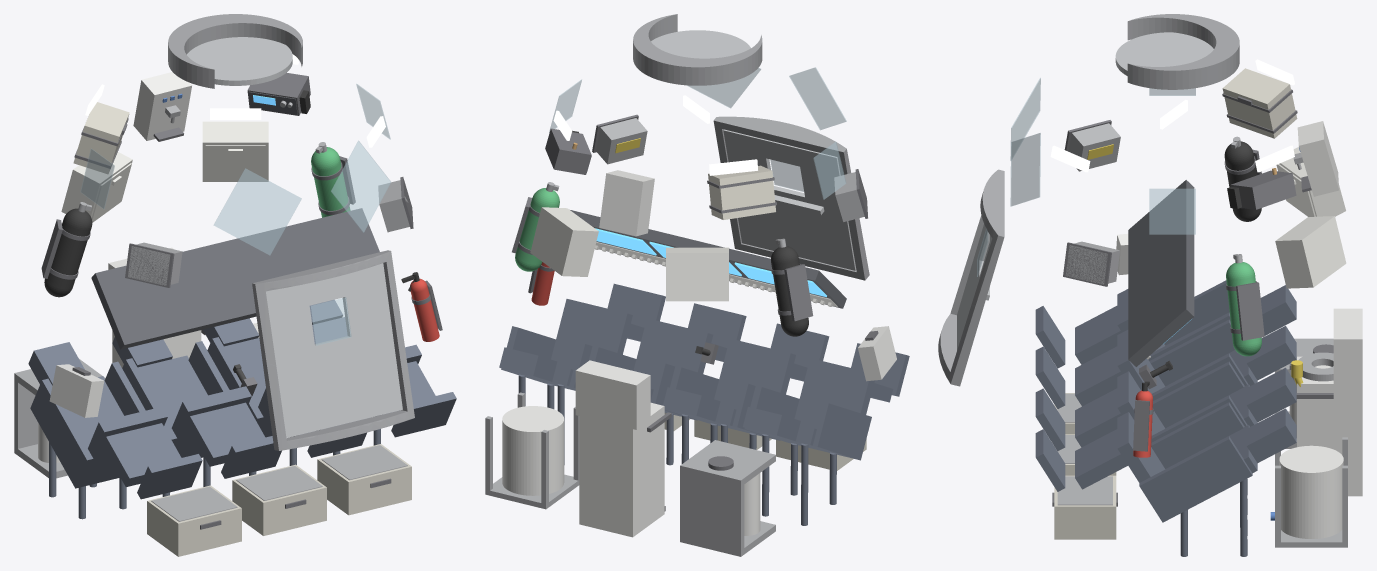
Rendered from cmd05_dragon_capsule_cutaway.glb.
3 views of the same model, side by side, from view 1: azimuth 30°, elevation 25°; view 2: azimuth 150°, elevation 25°; view 3: azimuth 270°, elevation 25° (orthographic). The views are drawn at different scales.
Visible parts, largest first — view 1: main_console, hatch_door_1, seat_1, seat_2, window_glass_inner, hatch_tunnel_1, stowage_lockers, seat_3, hatch_tunnel_2, hatch_door_2, seat_4, eq20_1_bag (+20 smaller); view 2: seat_1, eq22_1_body, hatch_door_1, seat_2, seat_4, eq08_1_frame, stowage_lockers, seat_3, window_glass_inner, eq11_1_tank, hatch_tunnel_1, hatch_tunnel_2 (+20 smaller); view 3: seat_4, main_console, seat_3, seat_2, seat_1, window_glass_inner, eq11_1_tank, stowage_lockers, hatch_tunnel_2, hatch_tunnel_1, eq22_1_body, eq19_1_bag (+19 smaller).
Boxes of the visible parts, x1=… form: main_console: x1=91, y1=208, x2=379, y2=349; hatch_door_1: x1=266, y1=263, x2=402, y2=437; seat_1: x1=28, y1=342, x2=202, y2=519; seat_2: x1=112, y1=337, x2=281, y2=496; window_glass_inner: x1=80, y1=84, x2=390, y2=345; hatch_tunnel_1: x1=252, y1=250, x2=414, y2=450; stowage_lockers: x1=61, y1=121, x2=268, y2=222; seat_3: x1=203, y1=318, x2=366, y2=475; hatch_tunnel_2: x1=168, y1=14, x2=302, y2=88; hatch_door_2: x1=187, y1=37, x2=292, y2=85; seat_4: x1=309, y1=299, x2=456, y2=455; eq20_1_bag: x1=147, y1=485, x2=241, y2=556; seat_1: x1=743, y1=343, x2=909, y2=525; eq22_1_body: x1=579, y1=402, x2=664, y2=537; hatch_door_1: x1=723, y1=129, x2=856, y2=270; seat_2: x1=663, y1=323, x2=829, y2=463; seat_4: x1=499, y1=283, x2=665, y2=464; eq08_1_frame: x1=680, y1=440, x2=775, y2=556; stowage_lockers: x1=530, y1=207, x2=728, y2=301; seat_3: x1=588, y1=303, x2=746, y2=465; window_glass_inner: x1=549, y1=67, x2=846, y2=199; eq11_1_tank: x1=502, y1=406, x2=564, y2=495; hatch_tunnel_1: x1=713, y1=116, x2=869, y2=280; hatch_tunnel_2: x1=633, y1=14, x2=762, y2=85; seat_4: x1=1035, y1=402, x2=1296, y2=556; main_console: x1=1128, y1=180, x2=1194, y2=366; seat_3: x1=1035, y1=361, x2=1296, y2=514; seat_2: x1=1035, y1=319, x2=1296, y2=408; seat_1: x1=1035, y1=280, x2=1296, y2=368; window_glass_inner: x1=977, y1=78, x2=1195, y2=276; eq11_1_tank: x1=1279, y1=445, x2=1343, y2=538; stowage_lockers: x1=1275, y1=147, x2=1346, y2=288; hatch_tunnel_2: x1=1127, y1=14, x2=1239, y2=89; hatch_tunnel_1: x1=938, y1=169, x2=1004, y2=386; eq22_1_body: x1=1297, y1=356, x2=1362, y2=496; eq19_1_bag: x1=1222, y1=68, x2=1297, y2=138.
Size of the model in its own units: 2.98 by 3.34 by 2.91.
